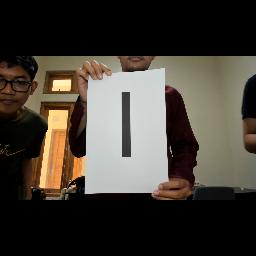i: (116, 90, 136, 162)
